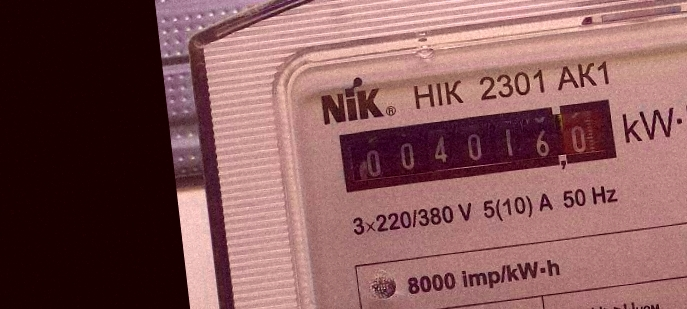0: (462, 127, 486, 164), (361, 144, 385, 179), (395, 137, 418, 173), (565, 121, 589, 155)
1: (499, 123, 518, 158)
4: (429, 130, 450, 166)
6: (530, 124, 552, 158)
screen: (330, 91, 626, 200)
